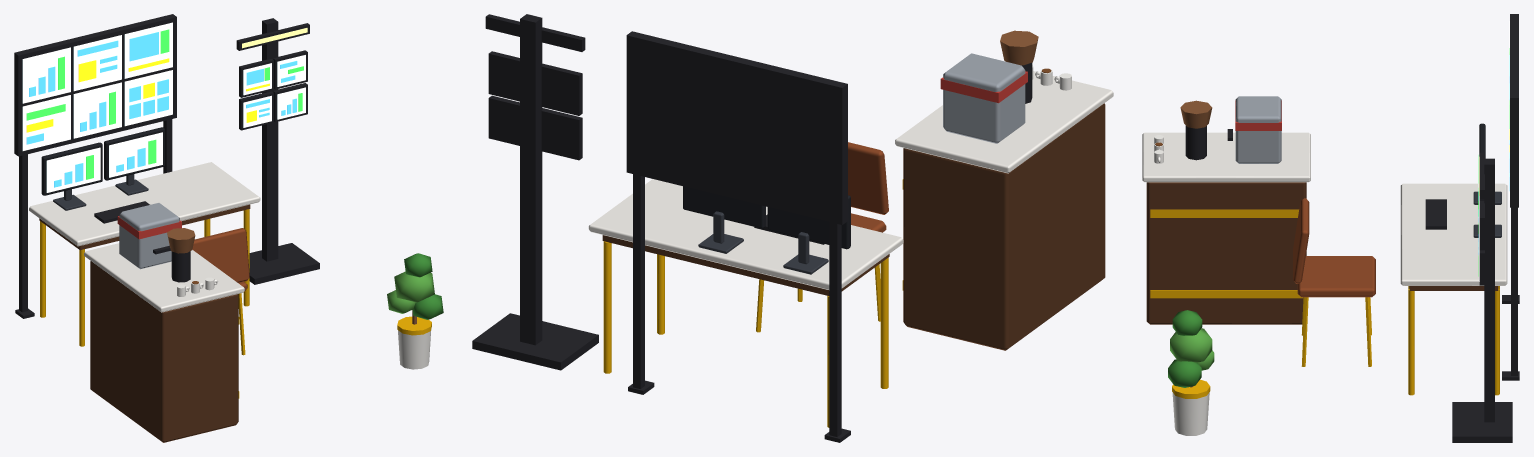
The model's file is station_intake_3.glb.
3 views of the same model, side by side, from view 1: azimuth 30°, elevation 25°; view 2: azimuth 150°, elevation 25°; view 3: azimuth 270°, elevation 25° (orthographic). The views are drawn at different scales.
Visible parts, largest first — view 1: station_intake_3; view 2: station_intake_3; view 3: station_intake_3.
Boxes of the visible parts, box(x1,y1,x2,y2) form: station_intake_3: box(14, 14, 443, 442); station_intake_3: box(472, 14, 1113, 442); station_intake_3: box(1142, 14, 1519, 442).
Bounding box in the file's own units: 2.15 × 1.76 × 2.12.
